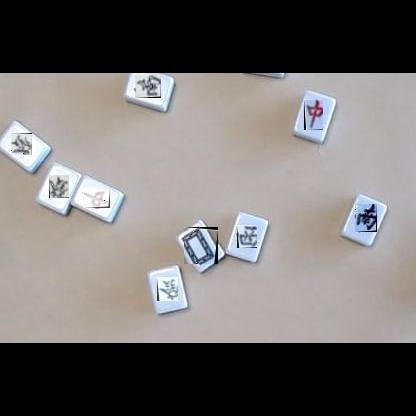2z: (355, 204, 377, 232), (135, 75, 161, 98)
3z: (237, 225, 257, 248)
5z: (184, 227, 218, 264)
6z: (157, 277, 178, 301), (11, 133, 32, 155), (49, 175, 69, 198)
7z: (304, 99, 323, 130), (83, 189, 110, 208)
